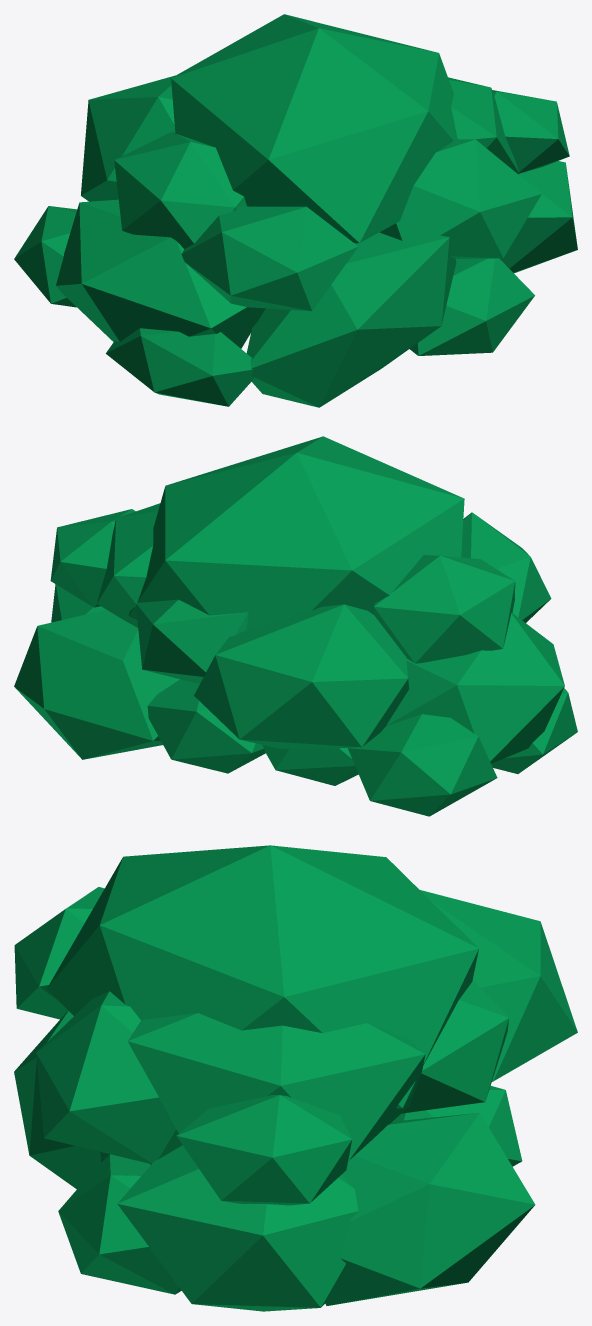
The model's file is Arbustito.fbx.
3 views of the same model, one above another, from view 1: azimuth 30°, elevation 25°; view 2: azimuth 150°, elevation 25°; view 3: azimuth 270°, elevation 25° (orthographic). The views are drawn at different scales.
Parts seen in each view (by area): view 1: Arbustito; view 2: Arbustito; view 3: Arbustito.
Part boxes in pixels (x1=…): Arbustito: x1=14, y1=14, x2=577, y2=407; Arbustito: x1=14, y1=436, x2=577, y2=816; Arbustito: x1=14, y1=845, x2=577, y2=1311.
Bounding box in the file's own units: 0.2879 × 0.1706 × 0.2255.
